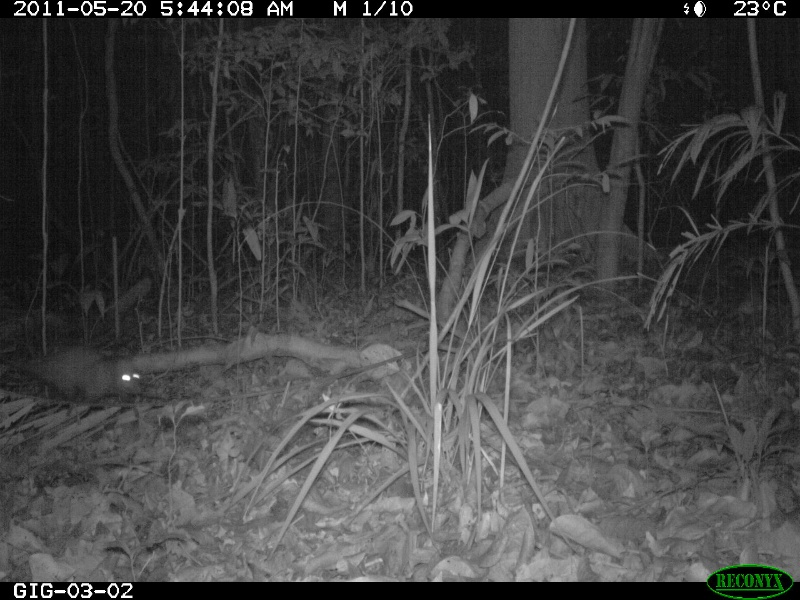opossum: (12, 342, 155, 397)
